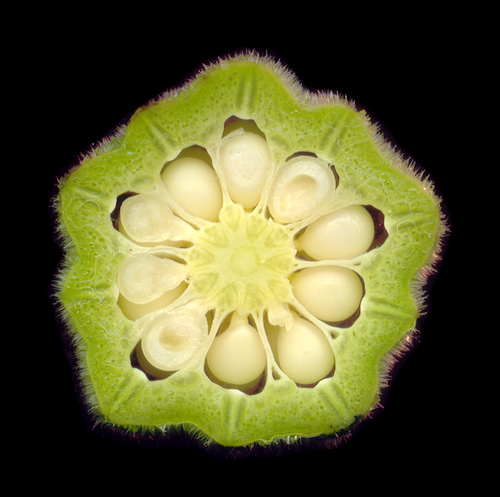okra: (54, 52, 447, 448)
